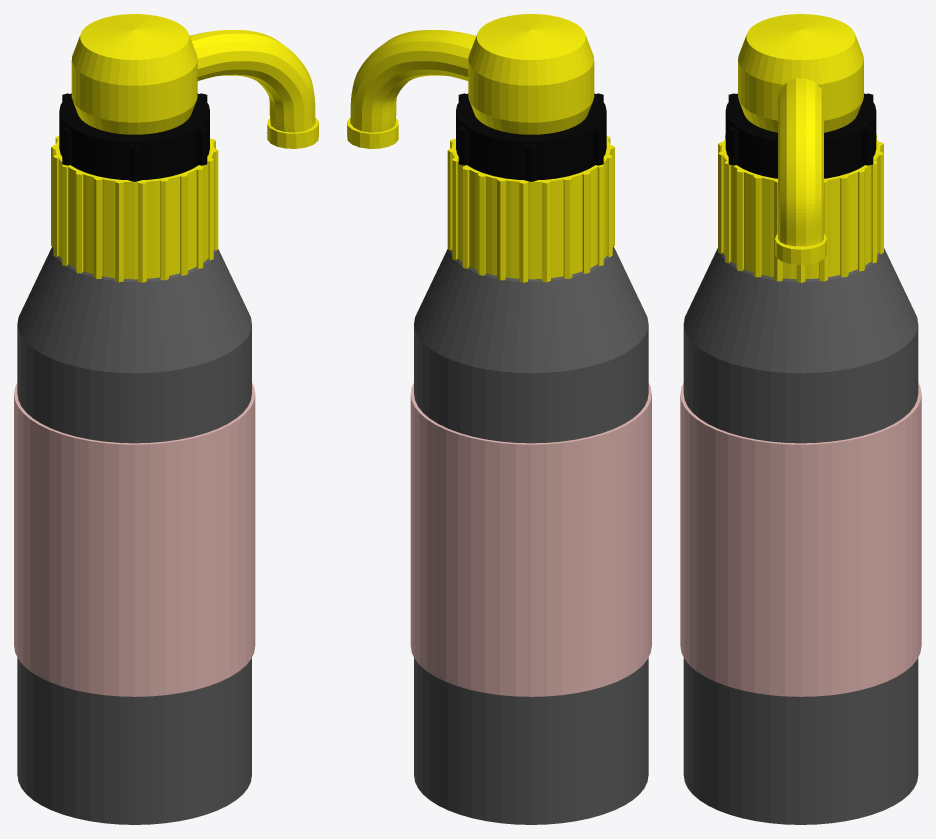
Rendered from Container_Pump__0009.glb.
3 views of the same model, side by side, from view 1: azimuth 30°, elevation 25°; view 2: azimuth 150°, elevation 25°; view 3: azimuth 270°, elevation 25° (orthographic).
Visible parts, largest first — view 1: bottle::bottle_shell, bottle::label_band, head::head_shell, collar::collar_shell, collar::collar_knurl, lock_ring::lock_ring_shell; view 2: bottle::bottle_shell, bottle::label_band, head::head_shell, collar::collar_shell, collar::collar_knurl, lock_ring::lock_ring_shell; view 3: bottle::bottle_shell, bottle::label_band, head::head_shell, collar::collar_knurl, collar::collar_shell, lock_ring::lock_ring_shell.
Boxes of the visible parts, x1,y1,x2,y2 form: bottle::bottle_shell: (17, 247, 251, 824); bottle::label_band: (14, 383, 255, 696); head::head_shell: (71, 14, 318, 148); collar::collar_shell: (55, 138, 213, 279); collar::collar_knurl: (51, 136, 218, 282); lock_ring::lock_ring_shell: (59, 93, 209, 181); bottle::bottle_shell: (414, 247, 648, 824); bottle::label_band: (410, 383, 651, 696); head::head_shell: (347, 14, 594, 148); collar::collar_shell: (452, 138, 610, 279); collar::collar_knurl: (447, 136, 614, 282); lock_ring::lock_ring_shell: (456, 93, 606, 181); bottle::bottle_shell: (683, 248, 918, 824); bottle::label_band: (680, 383, 921, 696); head::head_shell: (738, 14, 863, 264); collar::collar_knurl: (718, 134, 883, 282); collar::collar_shell: (721, 138, 880, 279); lock_ring::lock_ring_shell: (725, 93, 876, 178).
Size of the model in its own units: 0.0784 by 0.1999 by 0.0574.
